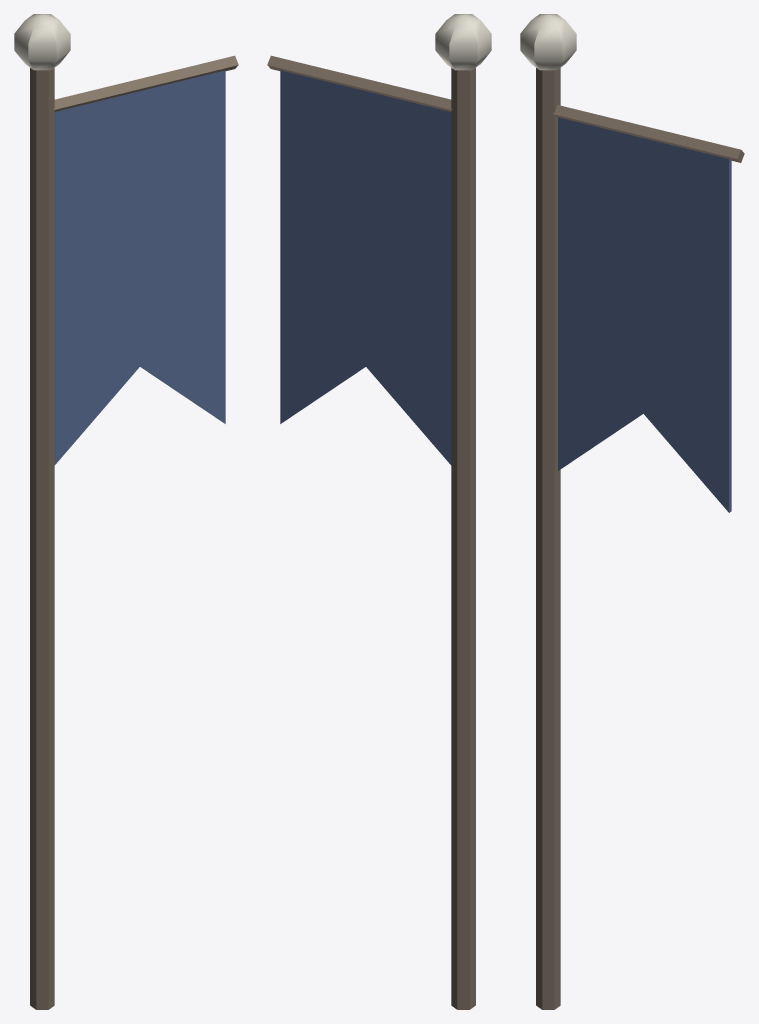
The model's file is banner_blue.gltf.
The picture shows the model from 3 angles, left to right: view 1: azimuth 30°, elevation 25°; view 2: azimuth 150°, elevation 25°; view 3: azimuth 330°, elevation 25°; orthographic projection.
Parts seen in each view (by area): view 1: Body; view 2: Body; view 3: Body.
Boxes of the visible parts, x1,y1,x2,y2 form: Body: (14, 14, 238, 1009); Body: (267, 14, 491, 1009); Body: (520, 14, 744, 1009).
Bounding box in the file's own units: 0.9988 × 4.42 × 0.2283.
